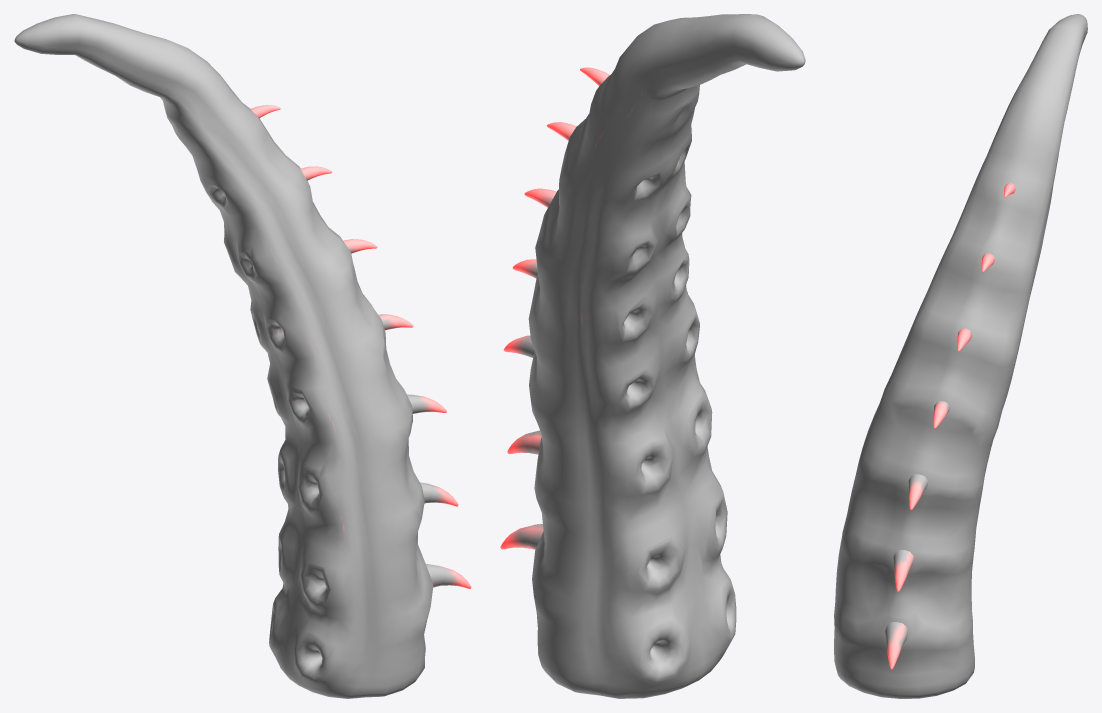
Rendered from wallTentacle_1.fbx.
The picture shows the model from 3 angles, left to right: view 1: azimuth 30°, elevation 25°; view 2: azimuth 150°, elevation 25°; view 3: azimuth 270°, elevation 25°; orthographic projection. The views are drawn at different scales.
Visible parts, largest first — view 1: wallTentacle.1; view 2: wallTentacle.1; view 3: wallTentacle.1.
Boxes of the visible parts, x1,y1,x2,y2 form: wallTentacle.1: (14,14,471,698); wallTentacle.1: (500,14,805,698); wallTentacle.1: (834,14,1087,698).
Size of the model in its own units: 464 by 803 by 324.
